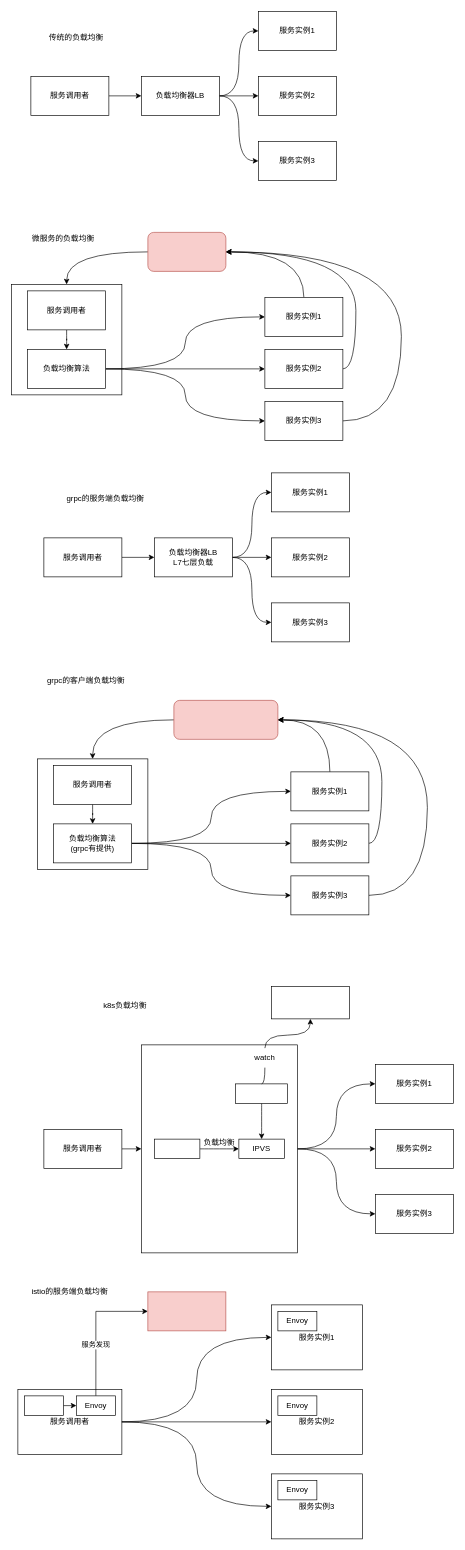
Image size: 465x1550. Some labels were removed from this diagram. The box of each missing label's shape, as (x1, y1, x2, y2) in pixels:
api-server: (271, 986, 349, 1019)
grpc: (24, 1395, 63, 1415)
kube-proxy: (235, 1083, 288, 1103)
name server consul，zookeeper，etcd: (173, 700, 278, 739)
pilot: (147, 1291, 226, 1331)
service: (154, 1138, 200, 1159)
注册中心: (147, 232, 226, 271)
